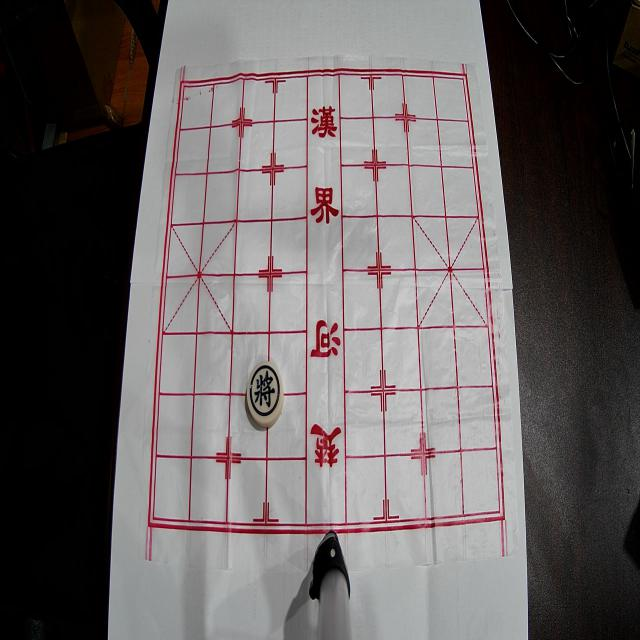black-general: (246, 361, 284, 427)
